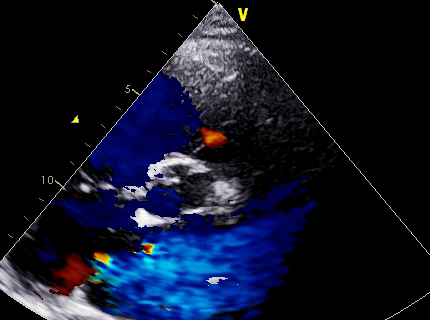TR: (85, 164, 169, 253)
